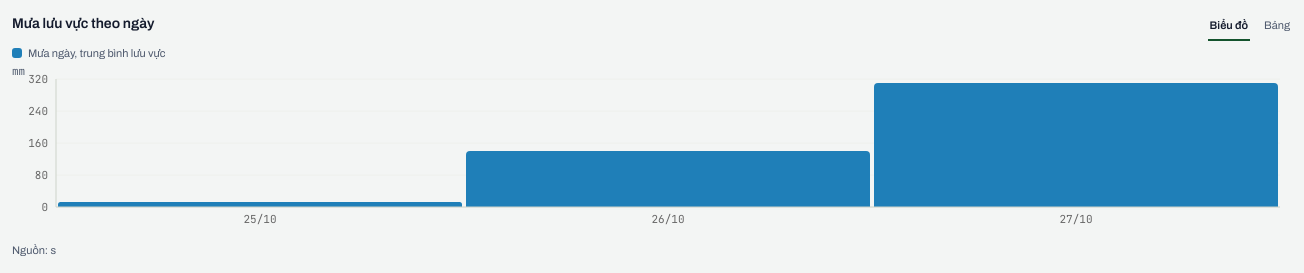
Test: RainChartView › lists daily rain and the running total in its table
Click the tab "Bảng". click: [1277, 26]
box: x1=1262 y1=12 x2=1292 y2=41
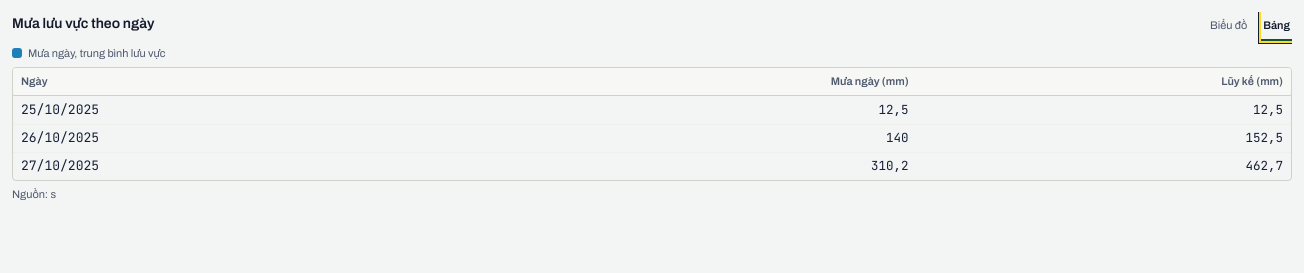
Now the row "27/10/2025 310,2 462,7" is shown, box x1=13 y1=152 x2=1291 y2=180
